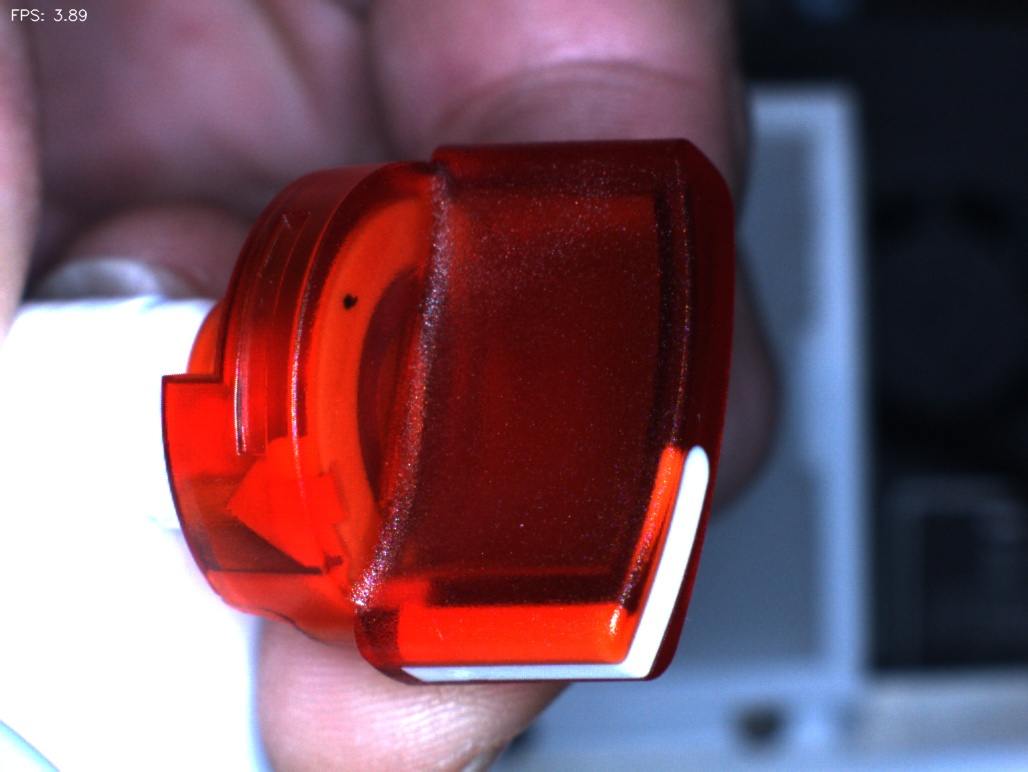PointNoir: (316, 264, 379, 337)
